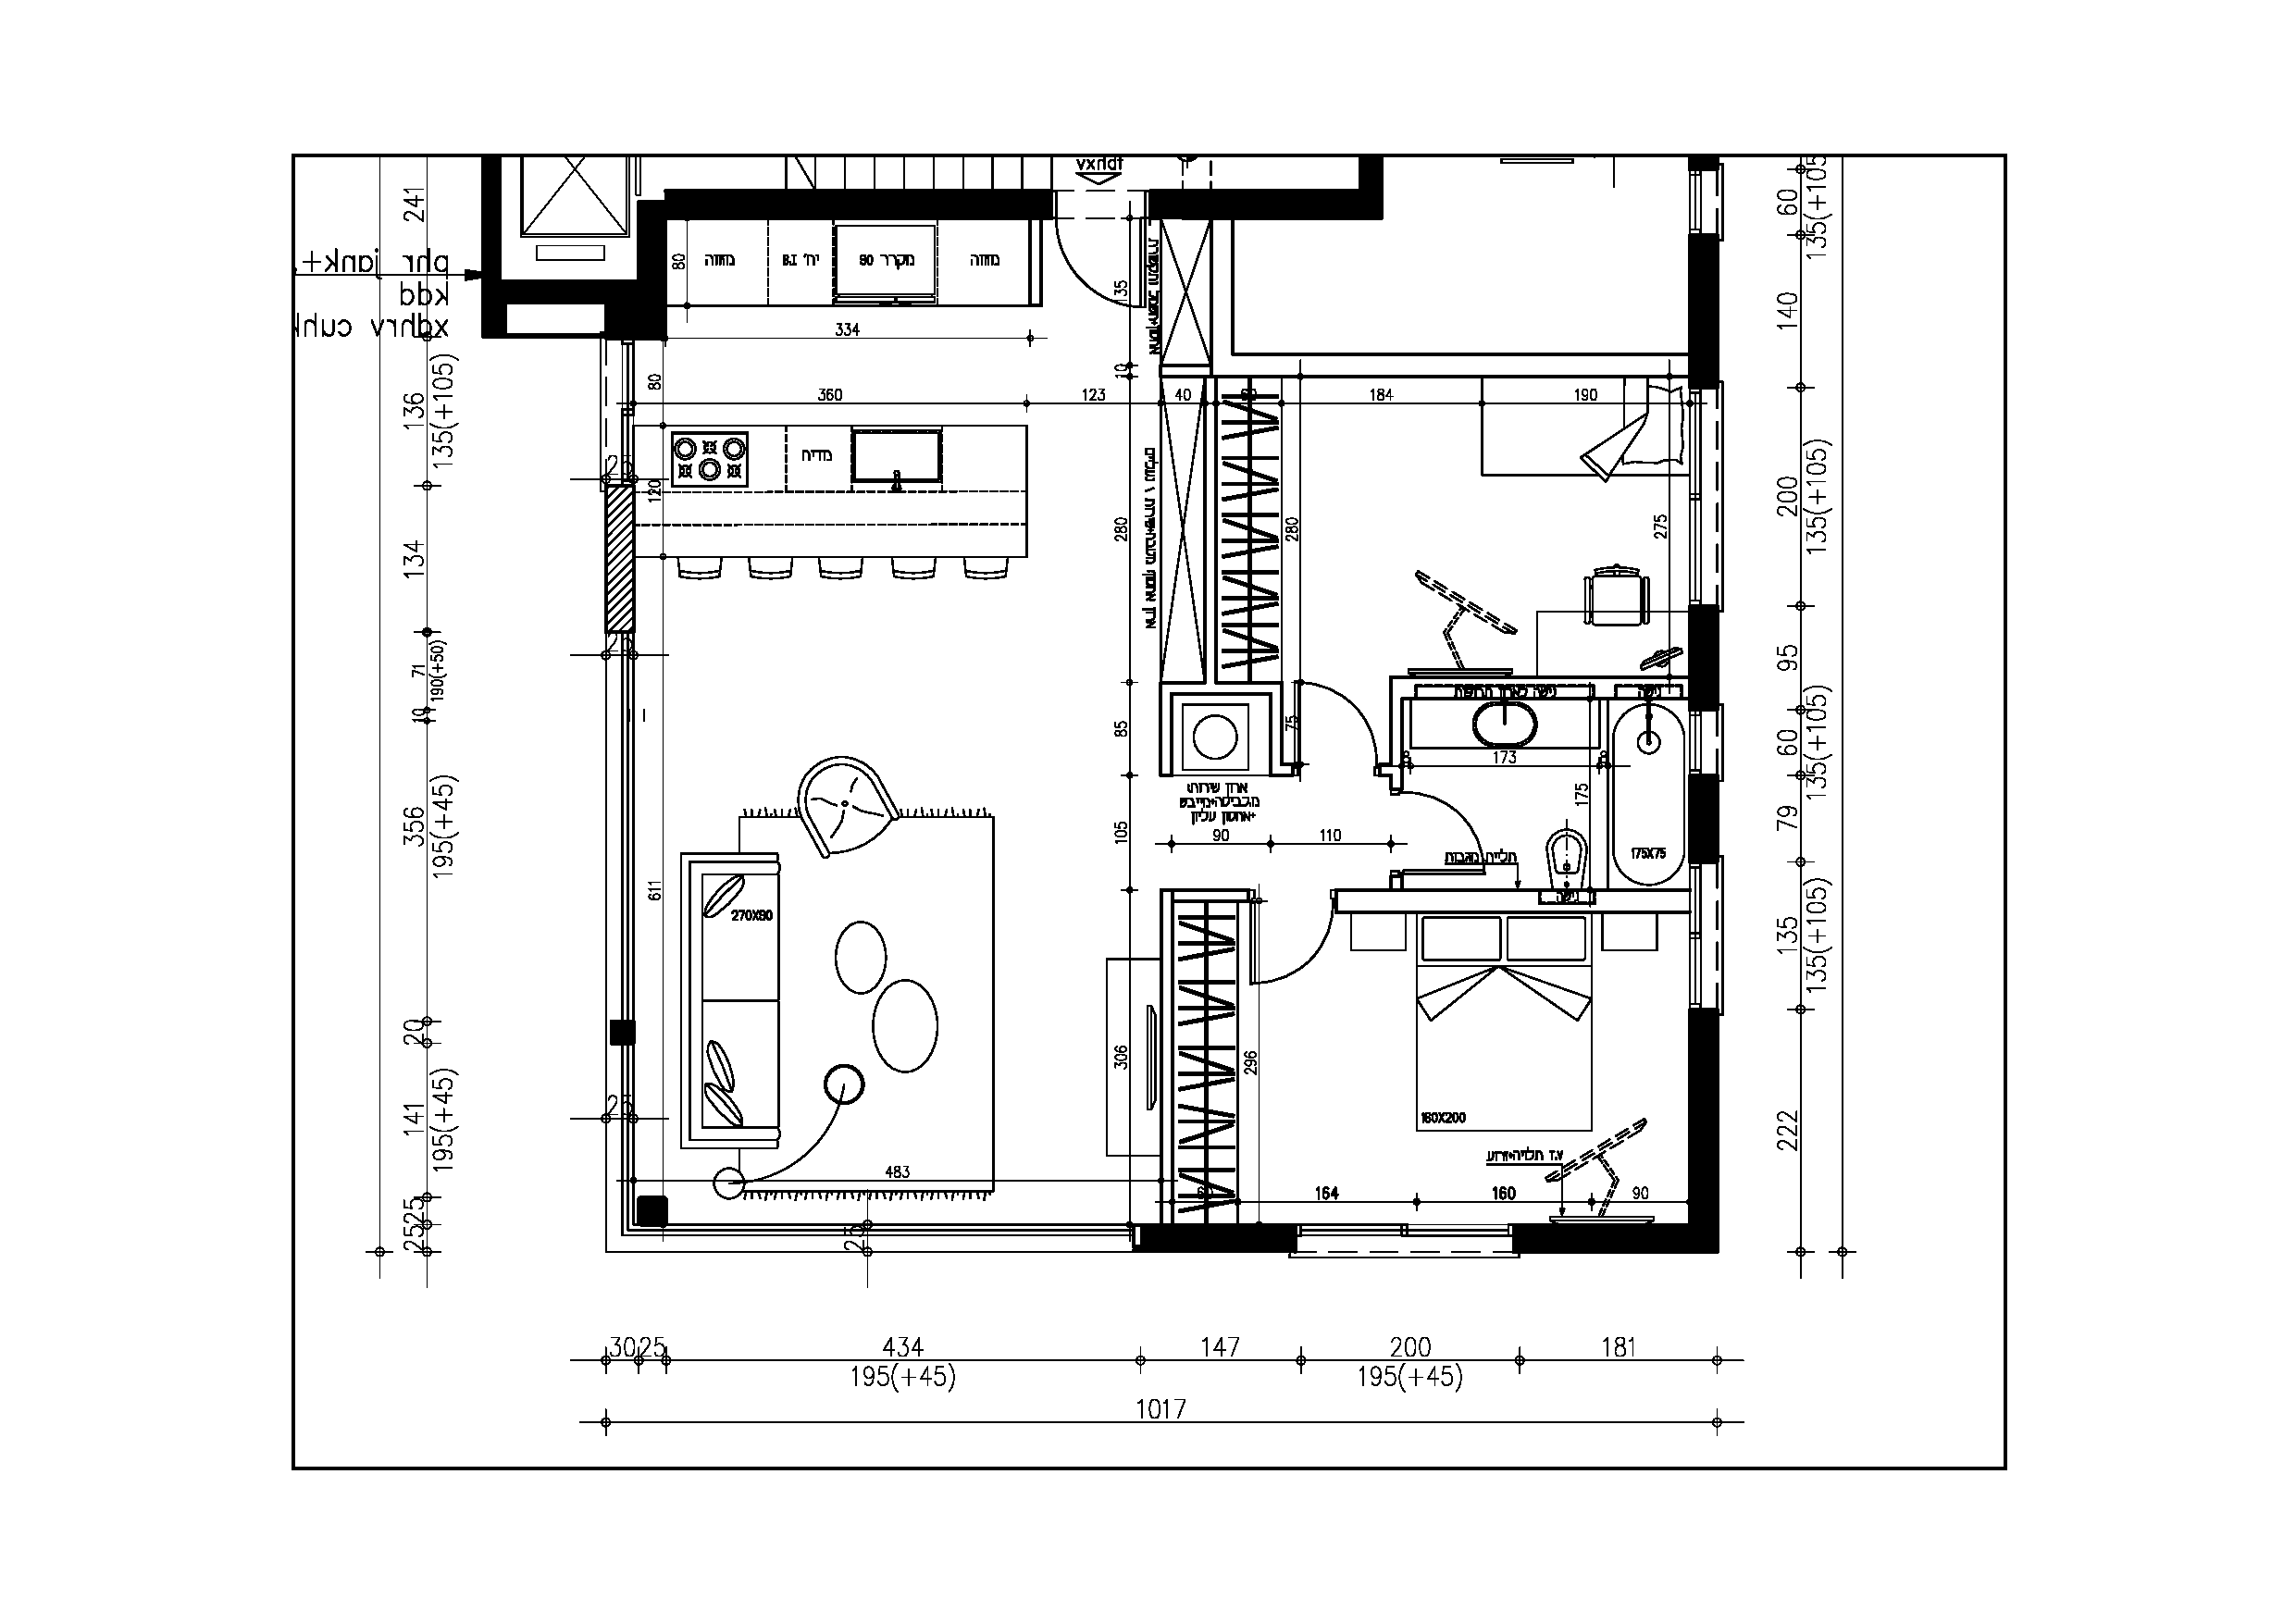door: (1051, 230, 1144, 325), (1245, 903, 1337, 998), (1286, 662, 1377, 757), (1418, 782, 1504, 875)
wall: (668, 186, 1056, 218), (1690, 1010, 1715, 1249), (1149, 188, 1370, 214), (1511, 1228, 1709, 1254), (1135, 1221, 1296, 1247), (480, 156, 499, 346)
window: (1300, 1223, 1509, 1237), (1690, 399, 1704, 494), (1690, 499, 1702, 595), (1688, 861, 1700, 938), (1688, 711, 1700, 773)
